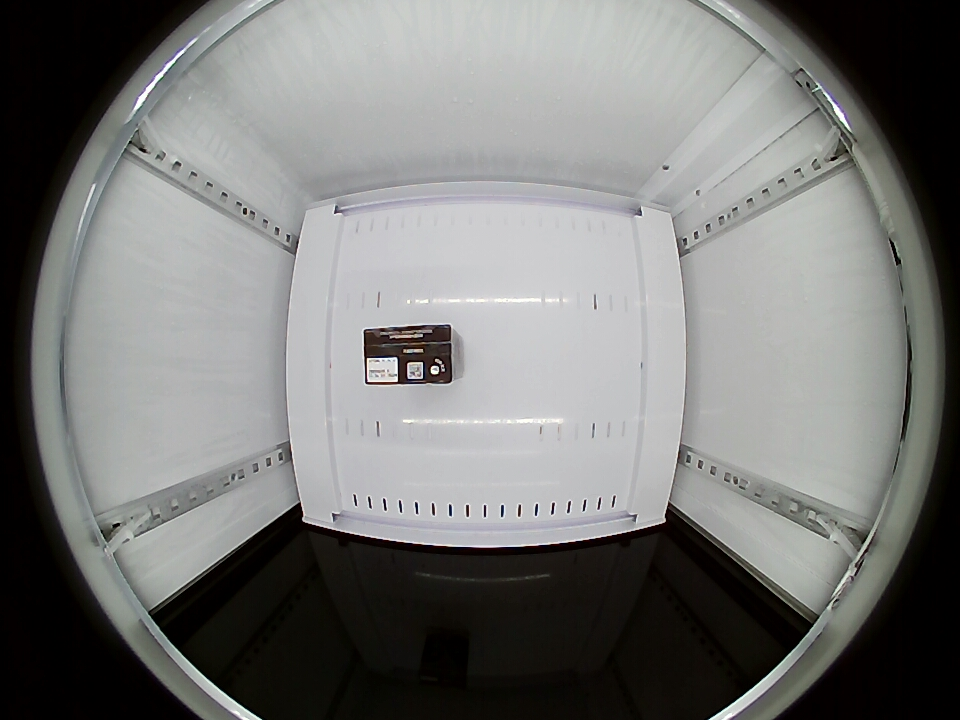weitanai2: (363, 324, 458, 386)
